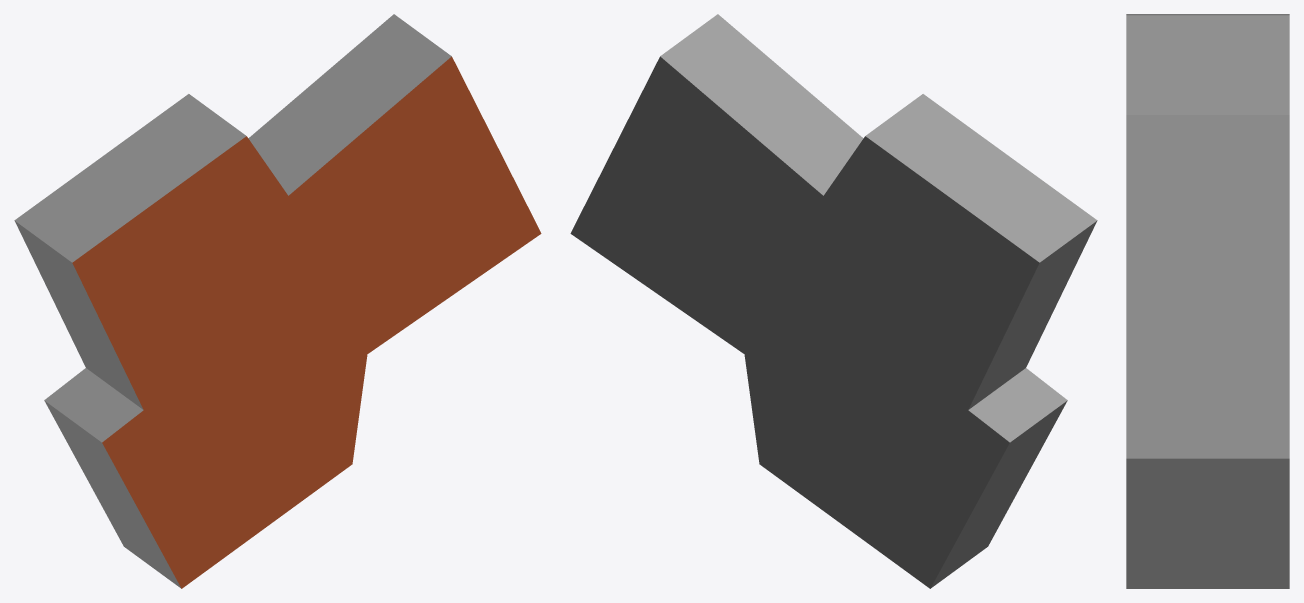
Rendered from construction_1716_actual_A_Casa_h5m.obj.
3 renders of one model, left to right at view 1: azimuth 30°, elevation 25°; view 2: azimuth 150°, elevation 25°; view 3: azimuth 270°, elevation 25°, orthographic. The views are drawn at different scales.
Parts seen in each view (by area): view 1: construction_1716_actual_A_Casa; view 2: construction_1716_actual_A_Casa; view 3: construction_1716_actual_A_Casa.
Boxes of the visible parts, <box> form: construction_1716_actual_A_Casa: <box>14,14,541,588</box>; construction_1716_actual_A_Casa: <box>570,14,1097,588</box>; construction_1716_actual_A_Casa: <box>1126,14,1289,588</box>.
Size of the model in its own units: 23.42 by 22.25 by 5.
